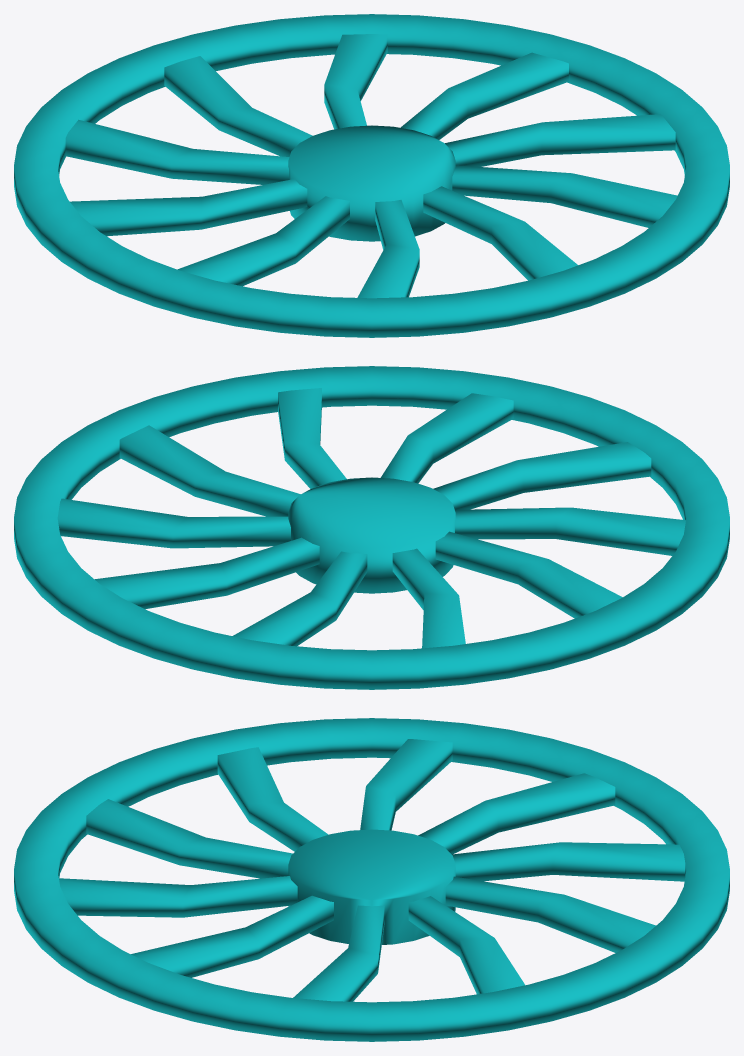
Rendered from wheel_left_teal.obj.
3 renders of one model, top to bottom at view 1: azimuth 30°, elevation 25°; view 2: azimuth 150°, elevation 25°; view 3: azimuth 270°, elevation 25°, orthographic.
Visible parts, largest first — view 1: wheel_left_teal; view 2: wheel_left_teal; view 3: wheel_left_teal.
Part boxes in pixels (x1,y1,x2,y2): wheel_left_teal: (14, 14, 729, 337); wheel_left_teal: (14, 366, 729, 689); wheel_left_teal: (14, 718, 729, 1041).
Size of the model in its own units: 0.0428 by 0.003 by 0.0428.
